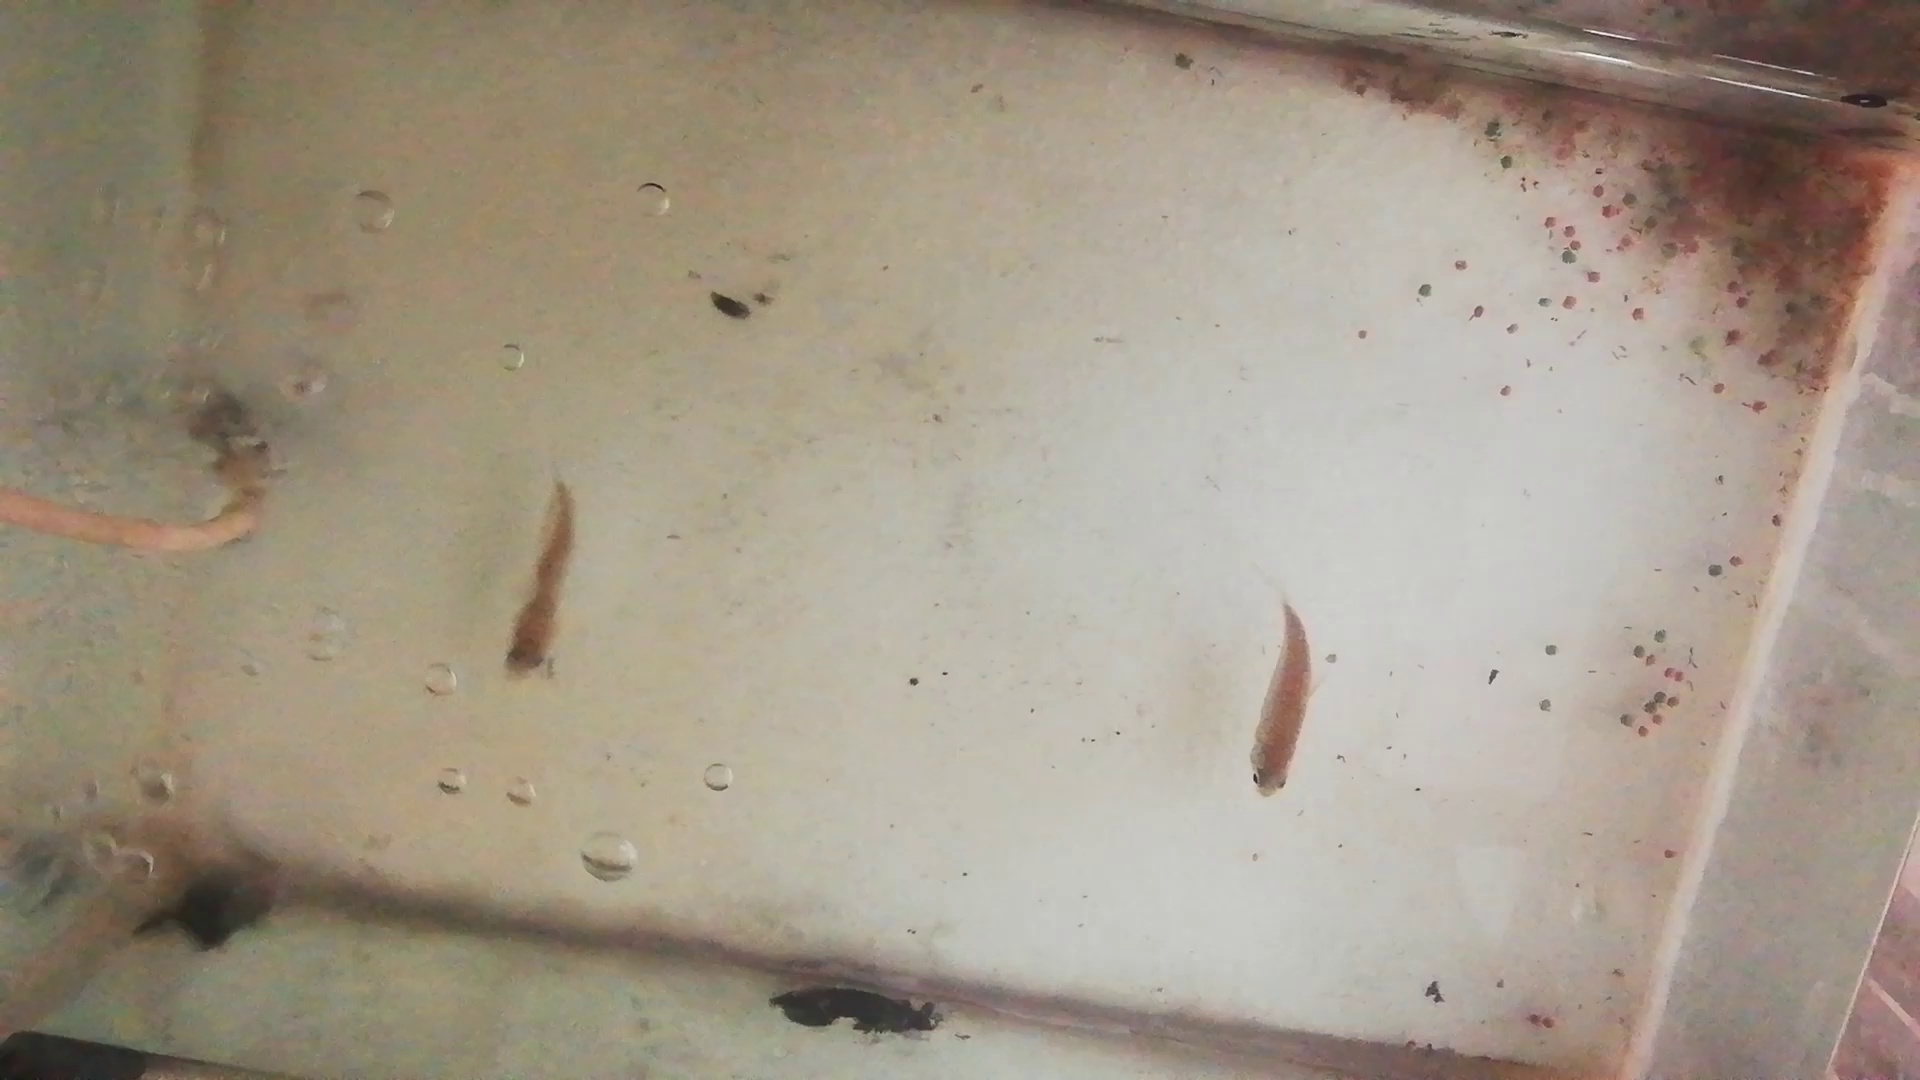fish: (497, 489, 578, 680), (1246, 607, 1316, 803)
